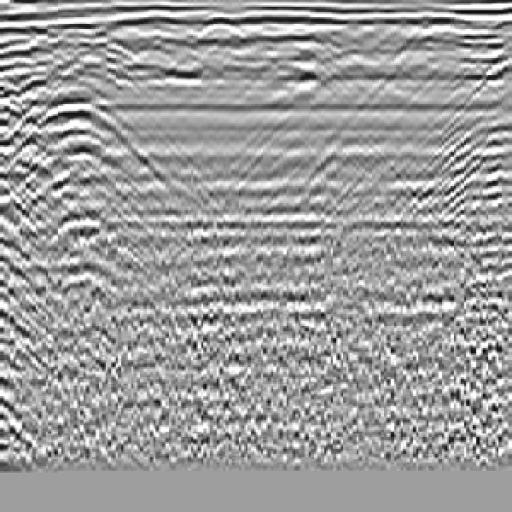metalic: (1, 59, 198, 297)
